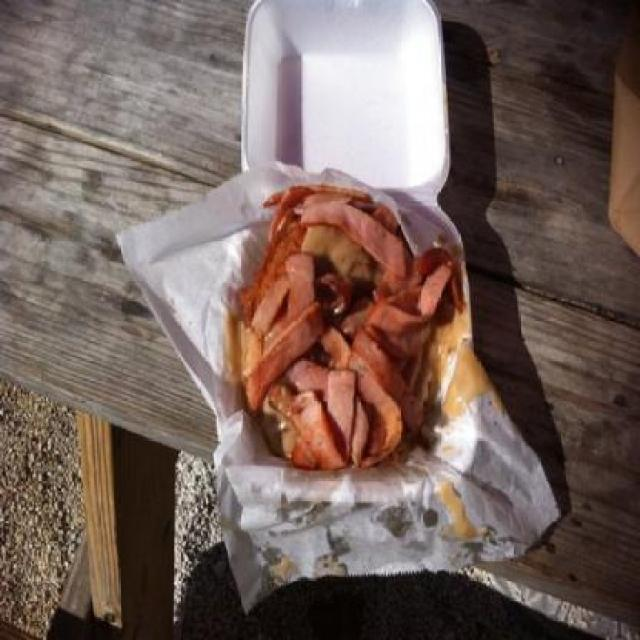French fries: (225, 169, 470, 522)
